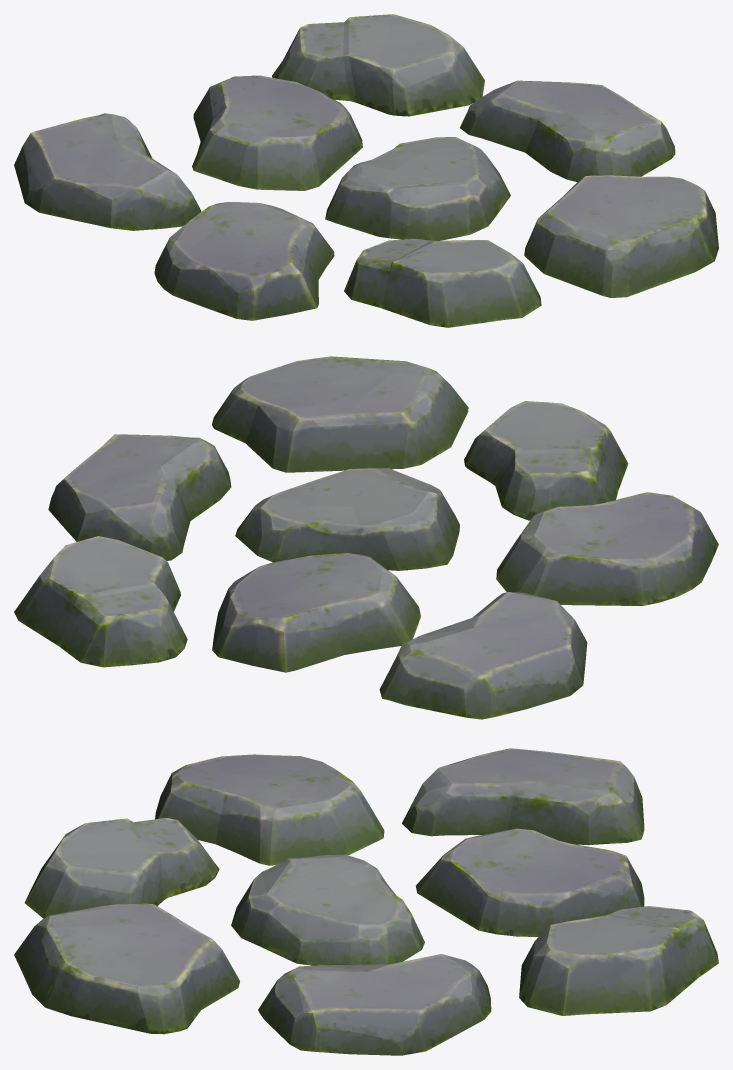
The model's file is RockPath_Round_Small_3.fbx.
3 renders of one model, top to bottom at view 1: azimuth 30°, elevation 25°; view 2: azimuth 150°, elevation 25°; view 3: azimuth 270°, elevation 25°, orthographic. The views are drawn at different scales.
Parts seen in each view (by area): view 1: RockPath_Round_Small_3; view 2: RockPath_Round_Small_3; view 3: RockPath_Round_Small_3.
Part boxes in pixels (x1,y1,x2,y2): RockPath_Round_Small_3: (14,14,718,327); RockPath_Round_Small_3: (14,356,718,719); RockPath_Round_Small_3: (14,748,718,1055).
Size of the model in its own units: 1.36 by 0.1093 by 1.44.
